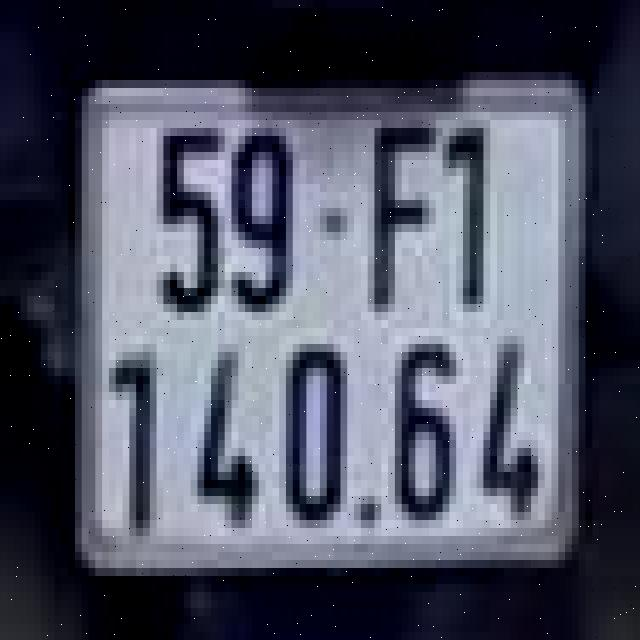0: (272, 332, 354, 548)
1: (98, 328, 174, 552), (446, 112, 507, 312)
4: (187, 336, 269, 544), (470, 328, 544, 536)
5: (156, 116, 232, 316)
6: (388, 332, 463, 532)
9: (232, 132, 300, 316)
F: (358, 104, 439, 320)
